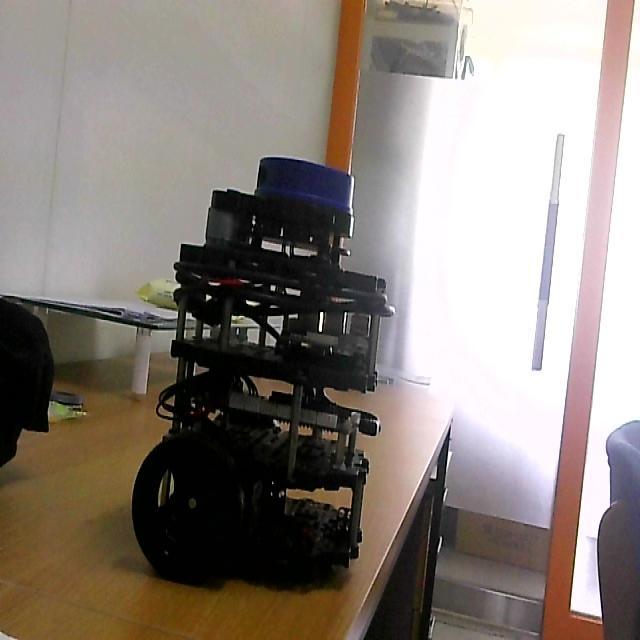turtle: (134, 150, 399, 593)
